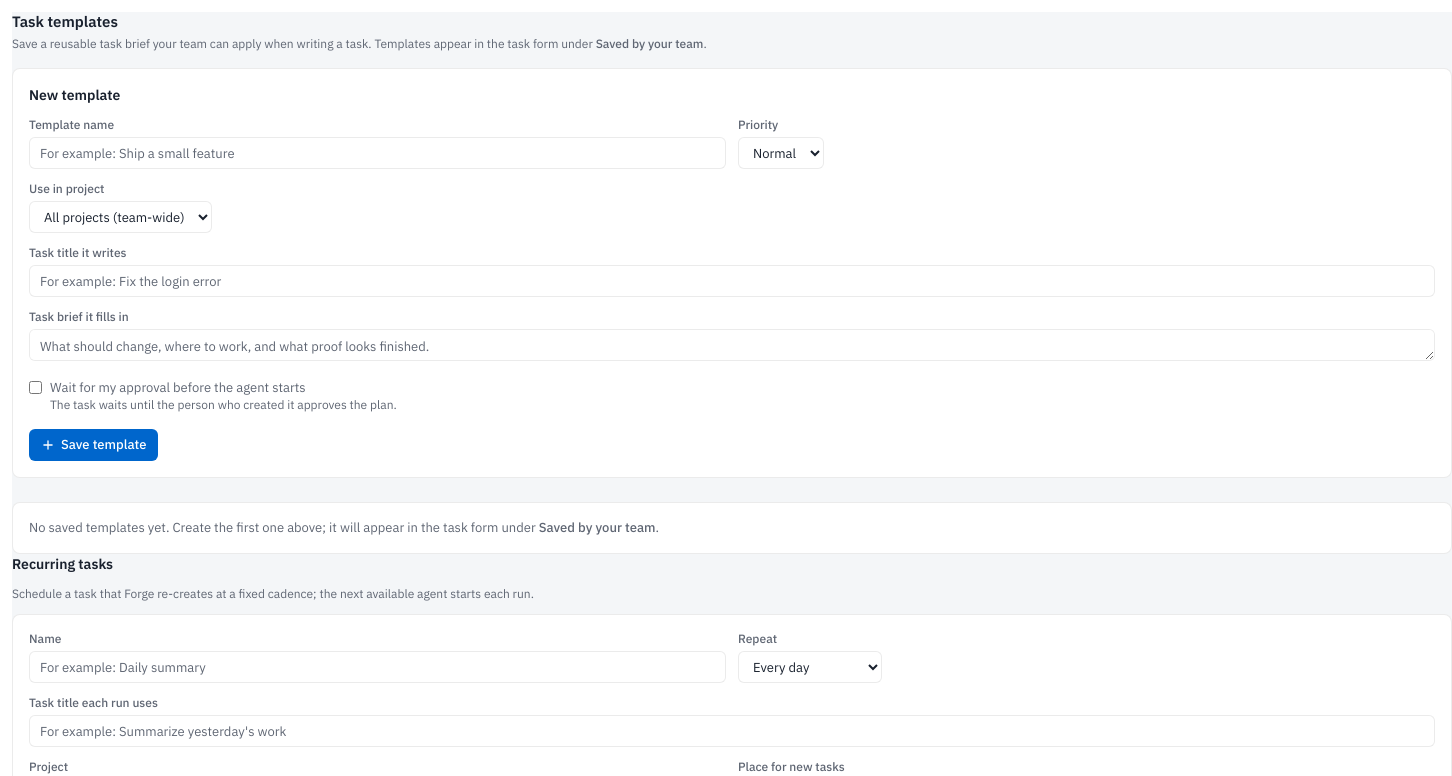
TaskTemplatesSection › saves a template with trimmed name and title
Check: the text "No saved templates yet" is shown, box [29,519,539,536]
Type "  Release  " into the field labelled "Template name" at (378, 153), box [29,137,726,169]
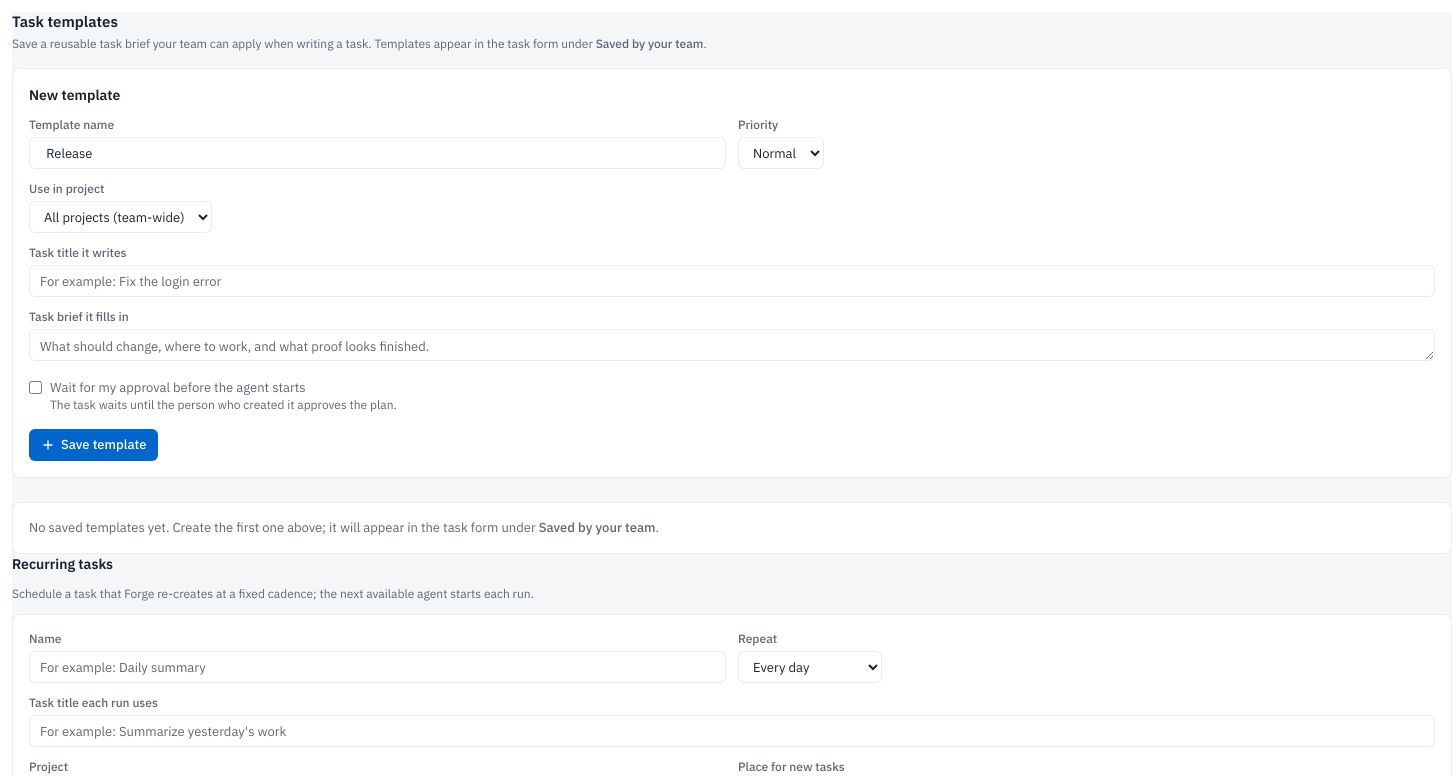
Type " Cut release " into the field labelled "Task title it writes" at (732, 281), box [29,265,1435,297]
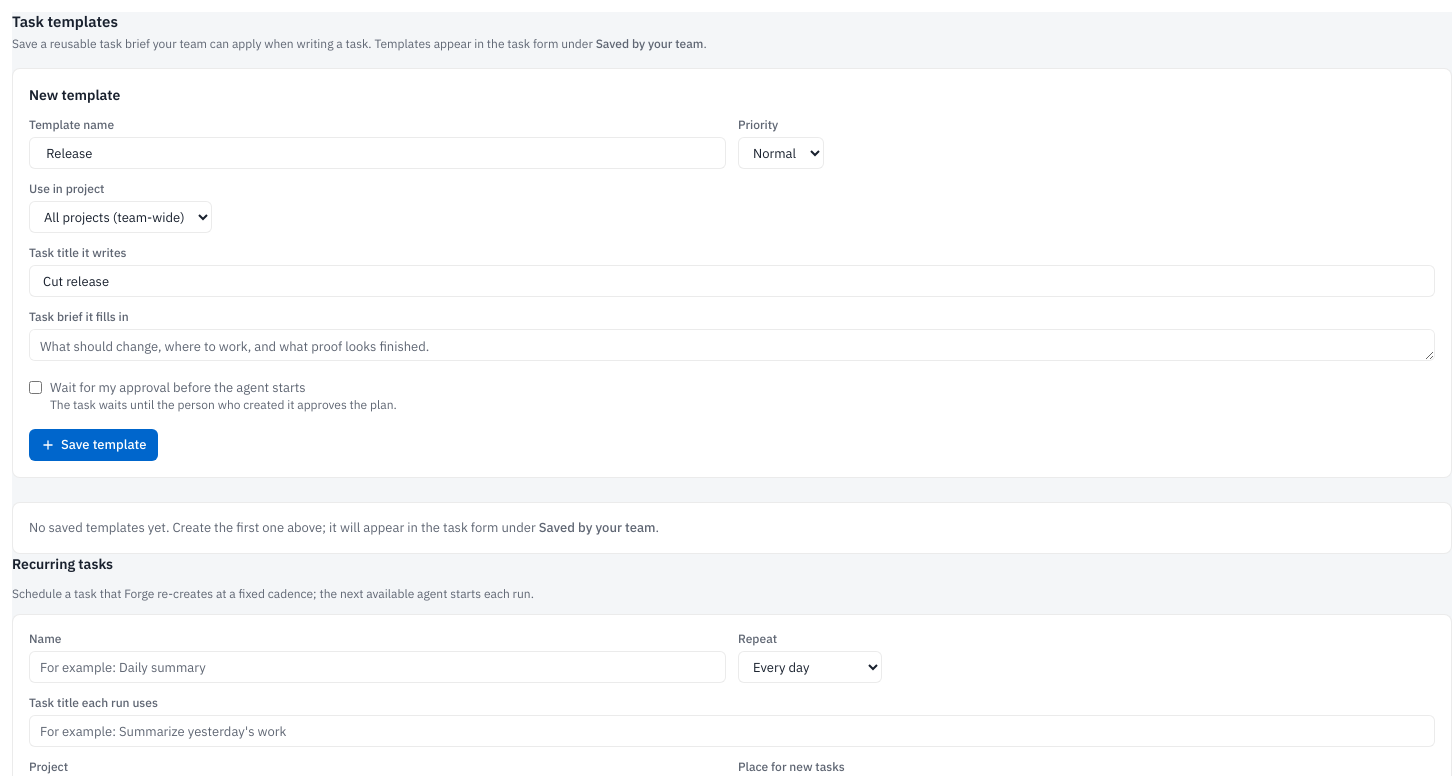
Replace the text in the text box labelled "Task brief it fills in" with "Steps to ship" at (732, 345), box [29,329,1435,361]
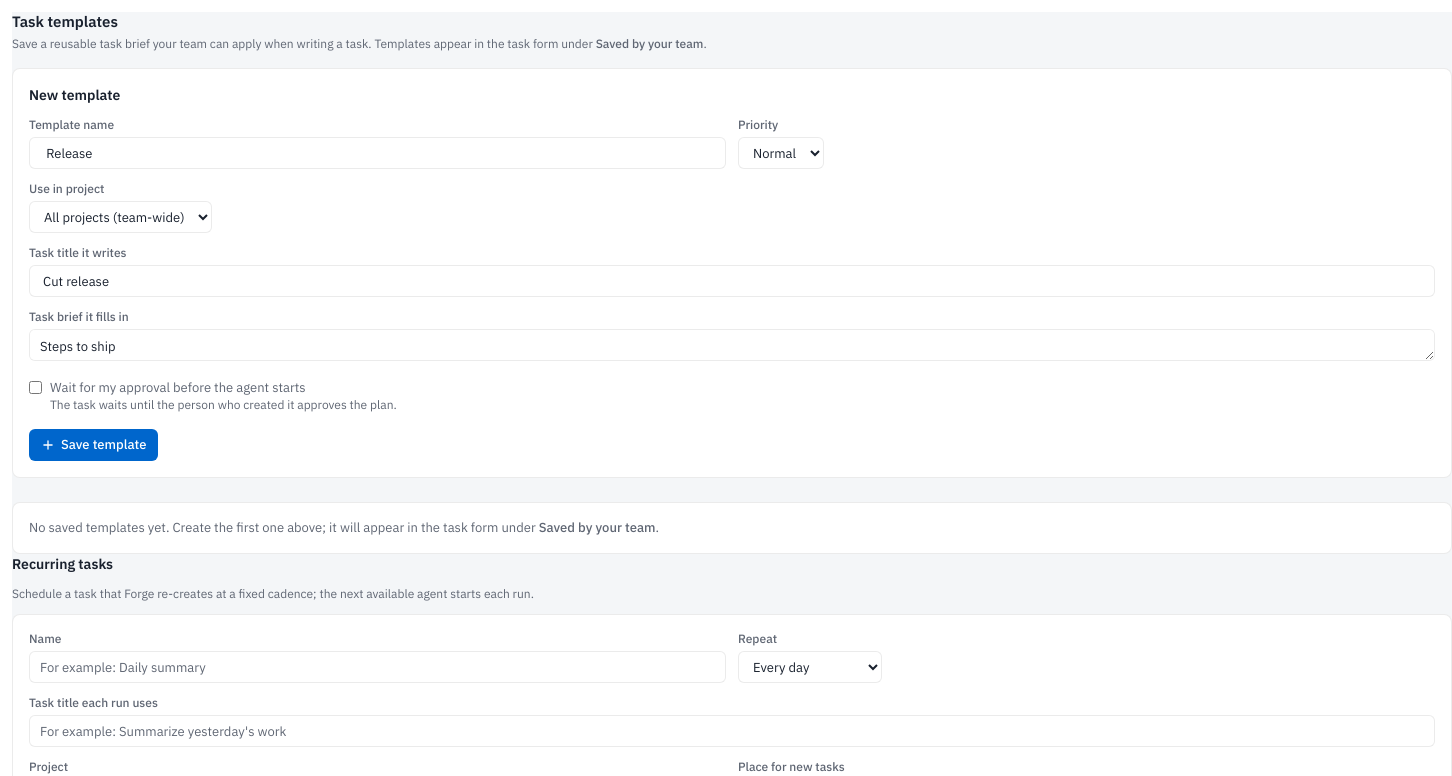
Select "Urgent" in the dropdown labelled "Priority" at (781, 153), box [738,137,824,169]
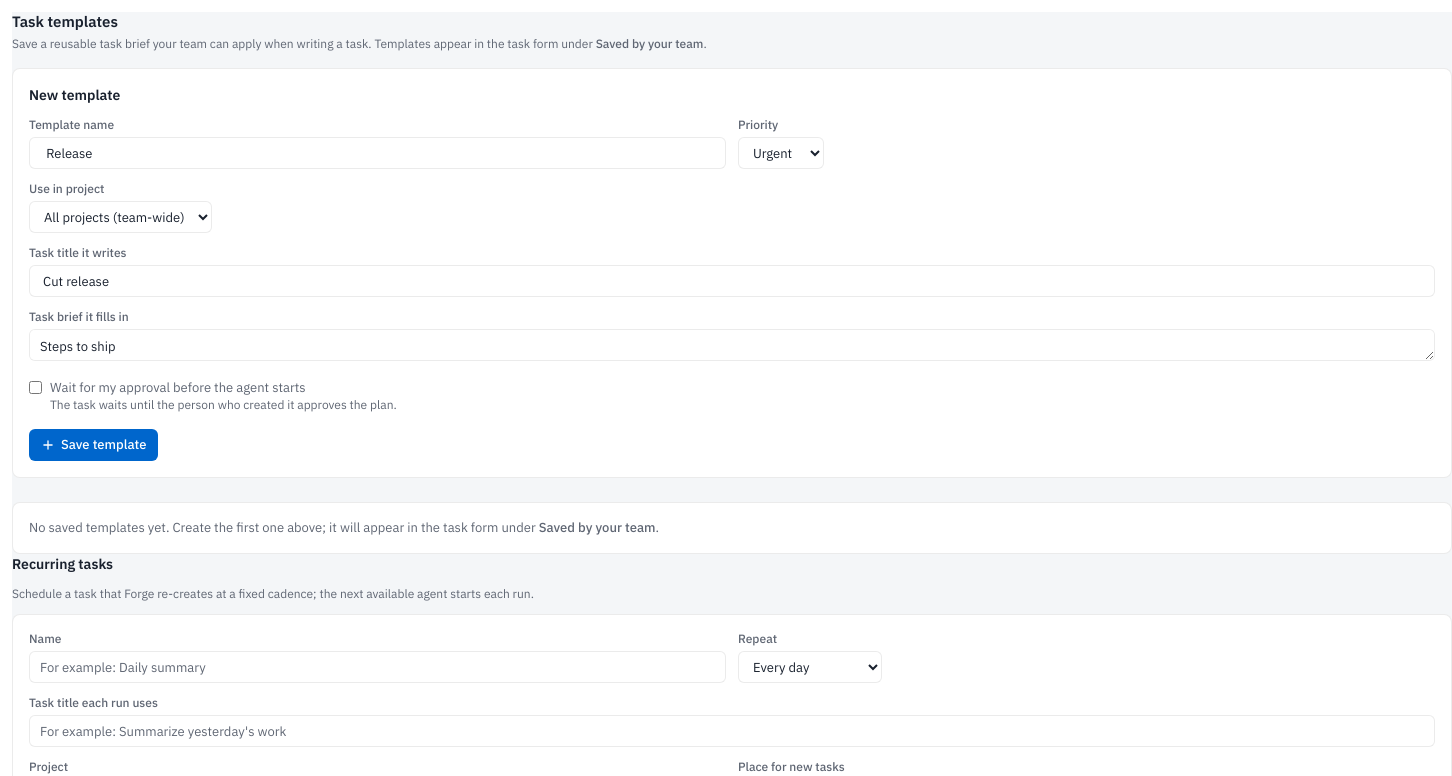
Click the button with test id "save-task-template" at (94, 445), box [29,429,158,461]
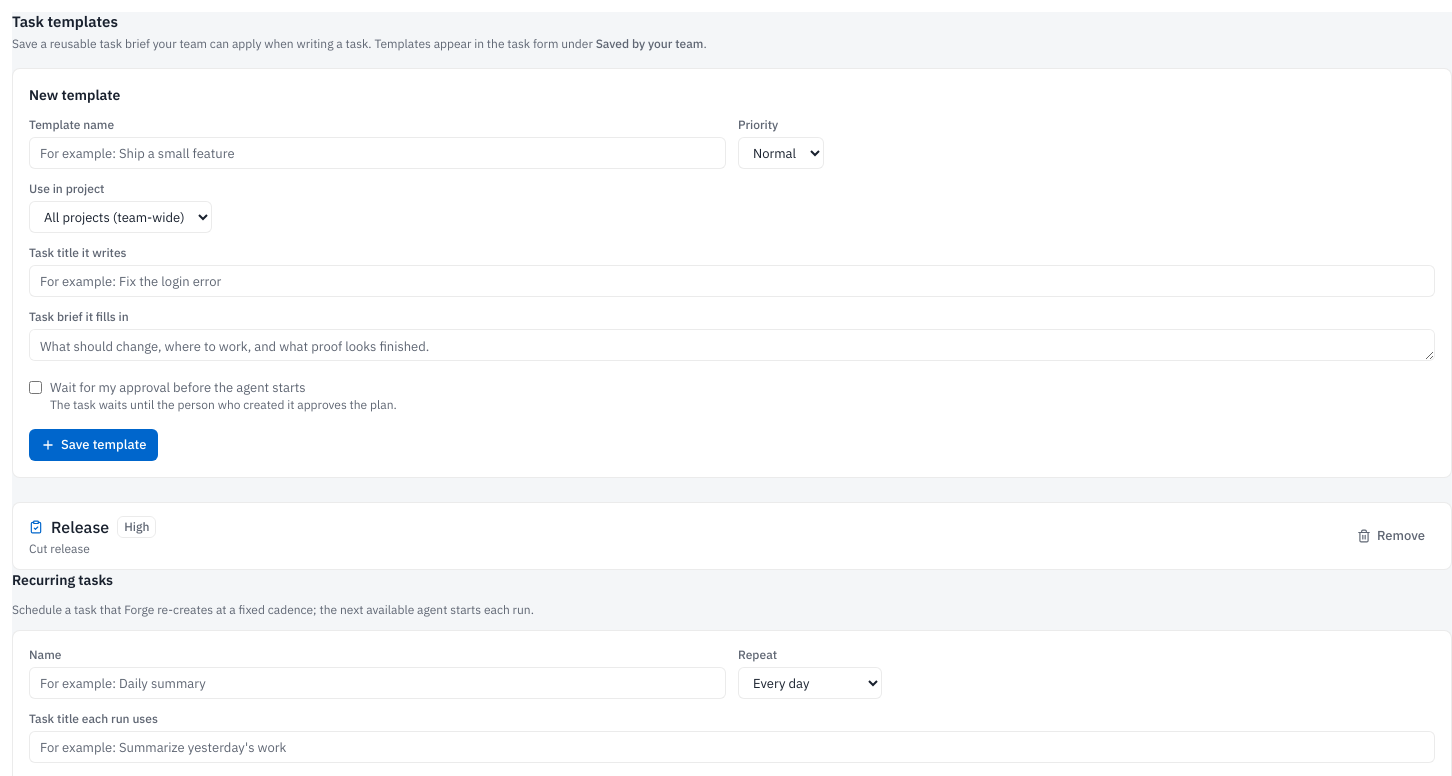
Check: the text "Release" is shown, box [51,515,109,539]
Check: the field labelled "Template name" is empty, box [29,137,726,169]
